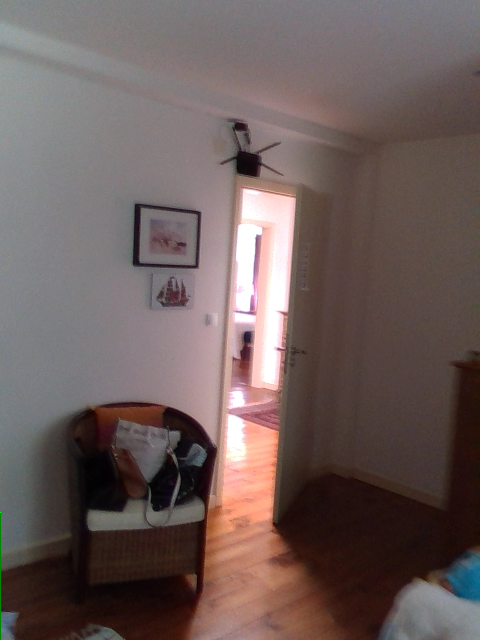semi: (215, 177, 330, 528)
